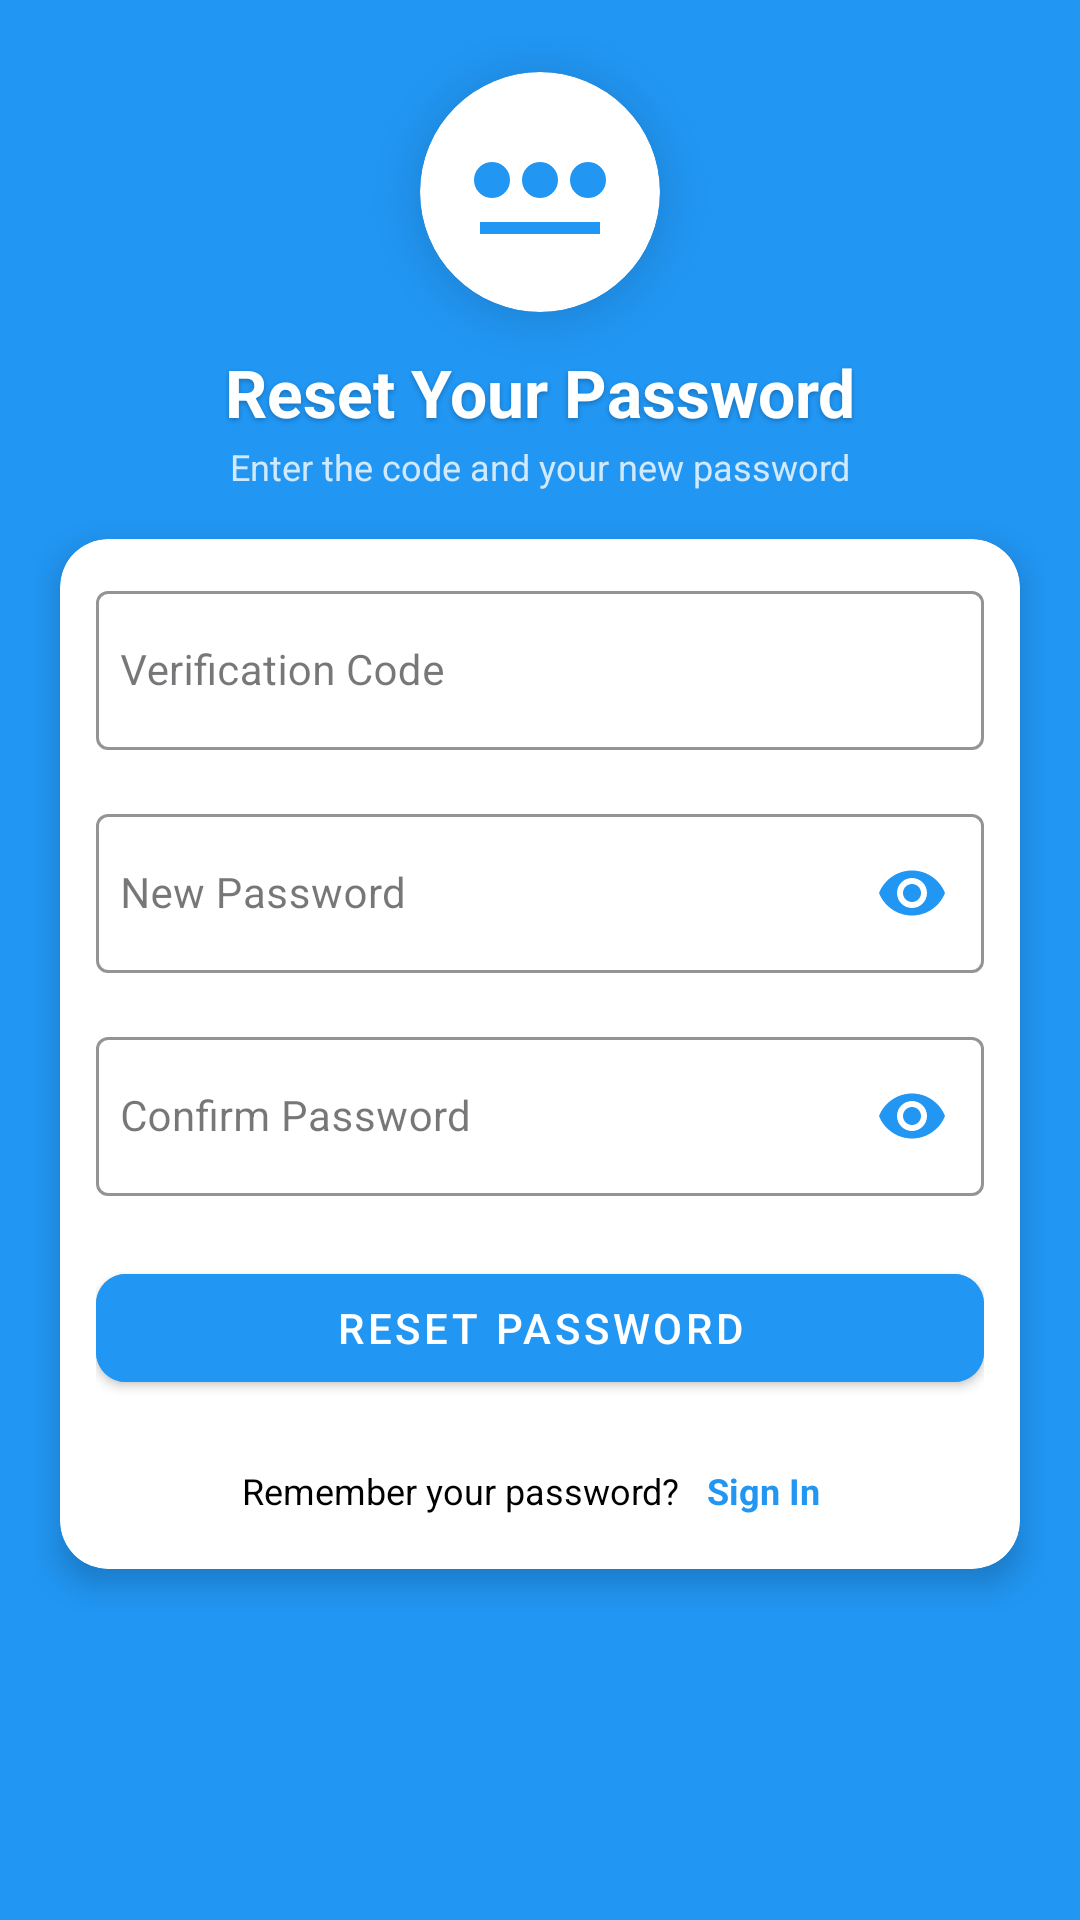

Named icons in this screenshot (1080px x 1920px) and their centers, (x=x, y=y):
forget password: (x=540, y=198)
